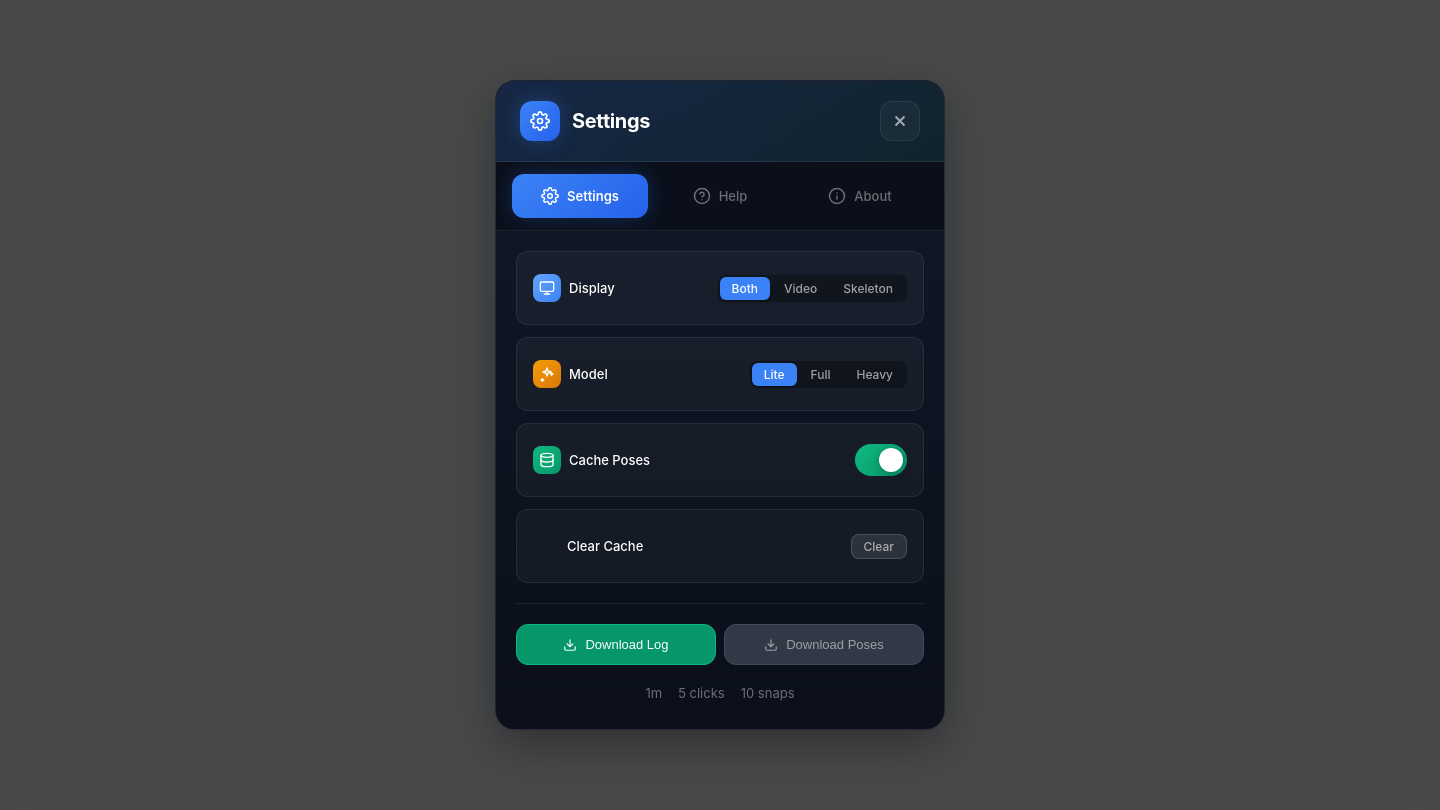
SettingsModal › Tab Navigation › switches to Help tab when clicked
Click the button "Help".
click(720, 196)  # box 652,174 -> 788,218
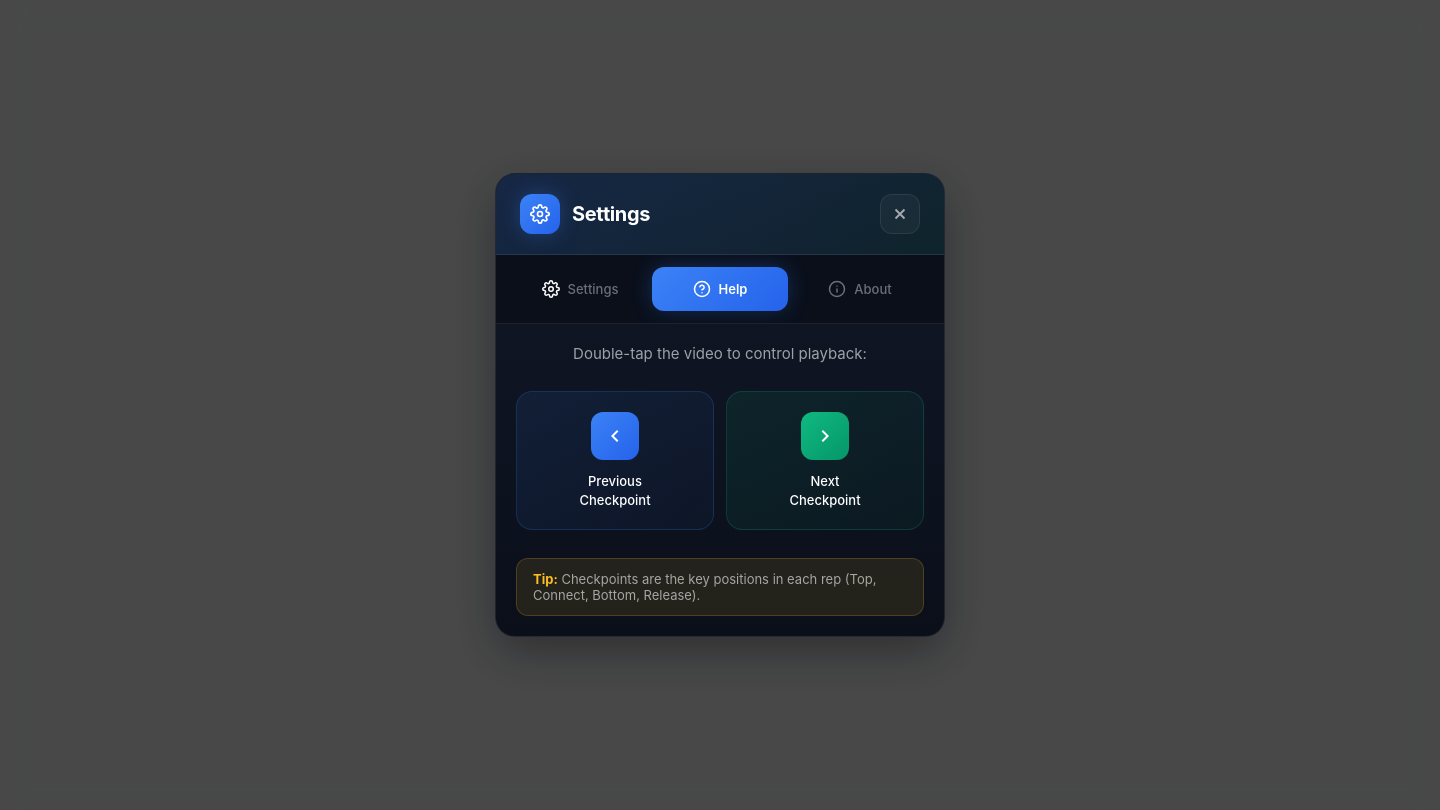
Check: the text "Double-tap the video to control playback:" is shown, box 573,344 -> 867,363
